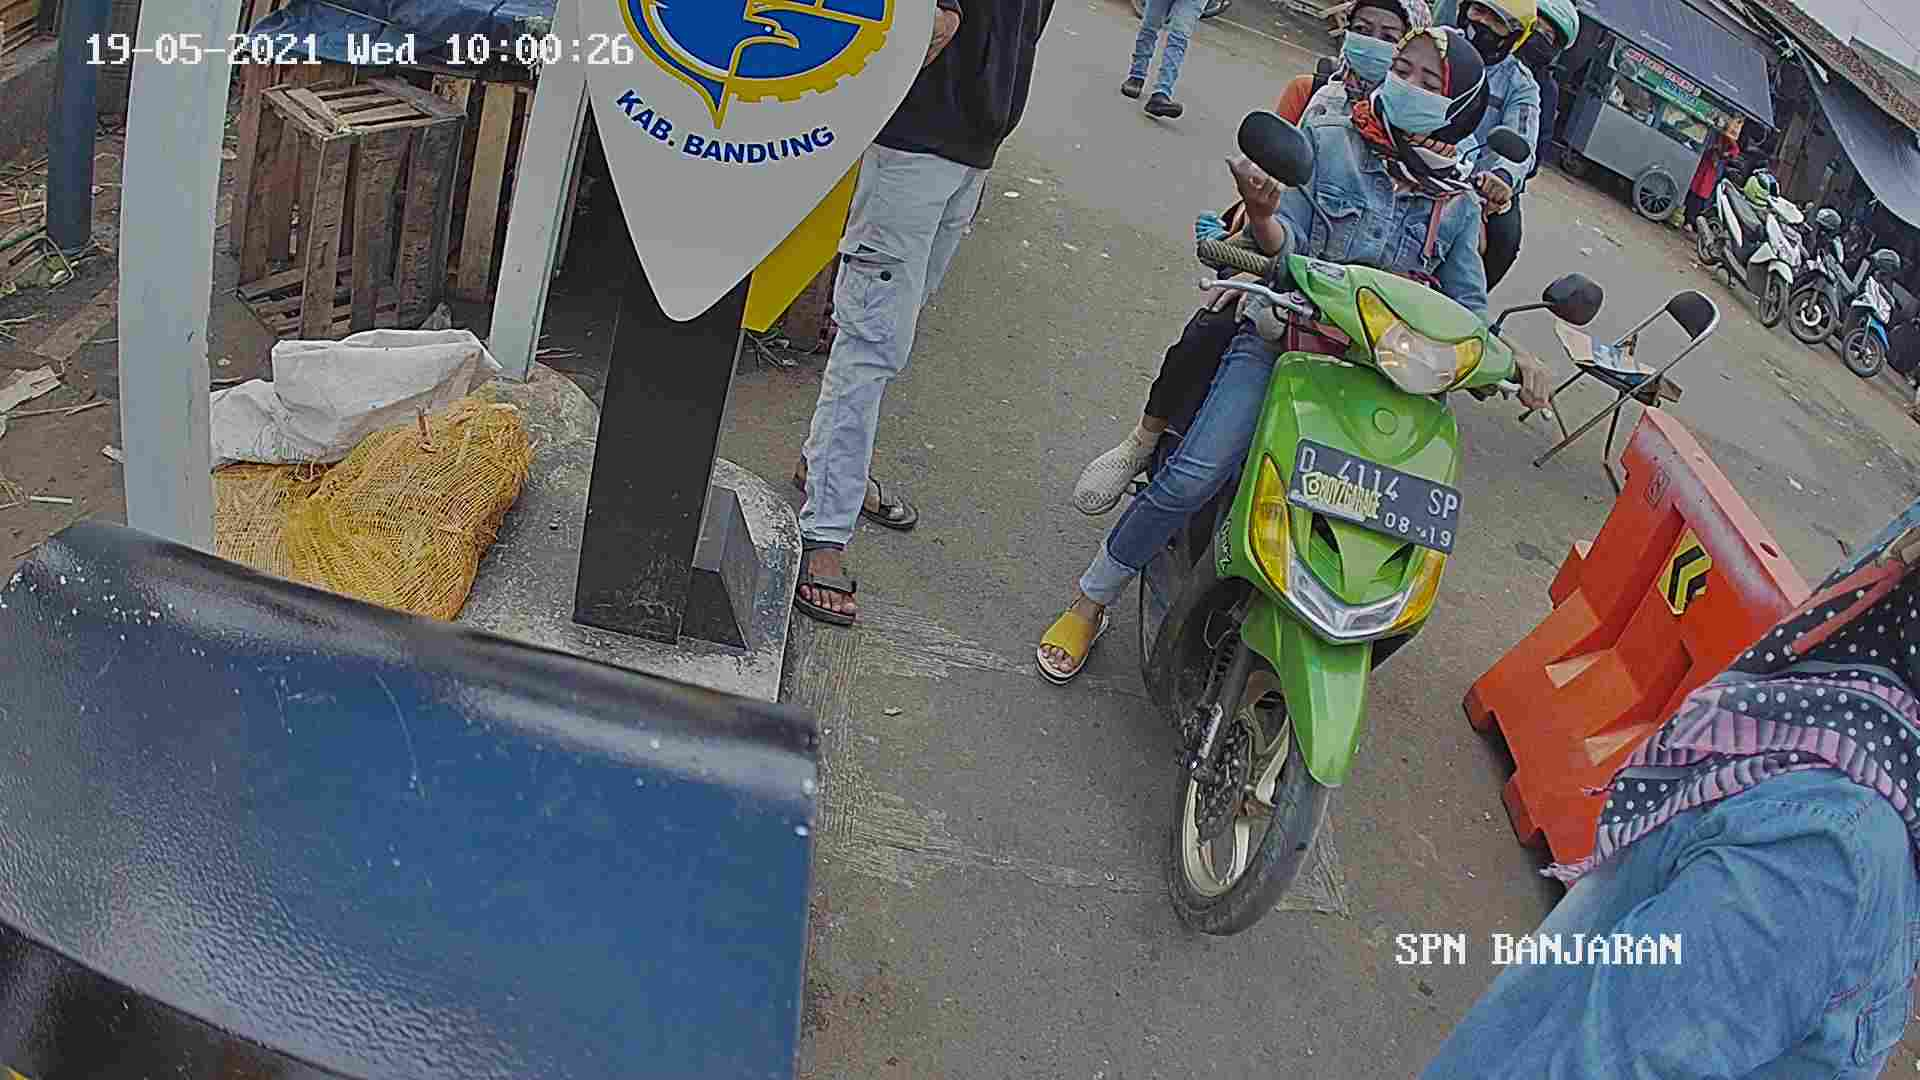motor: (1138, 193, 1478, 915)
